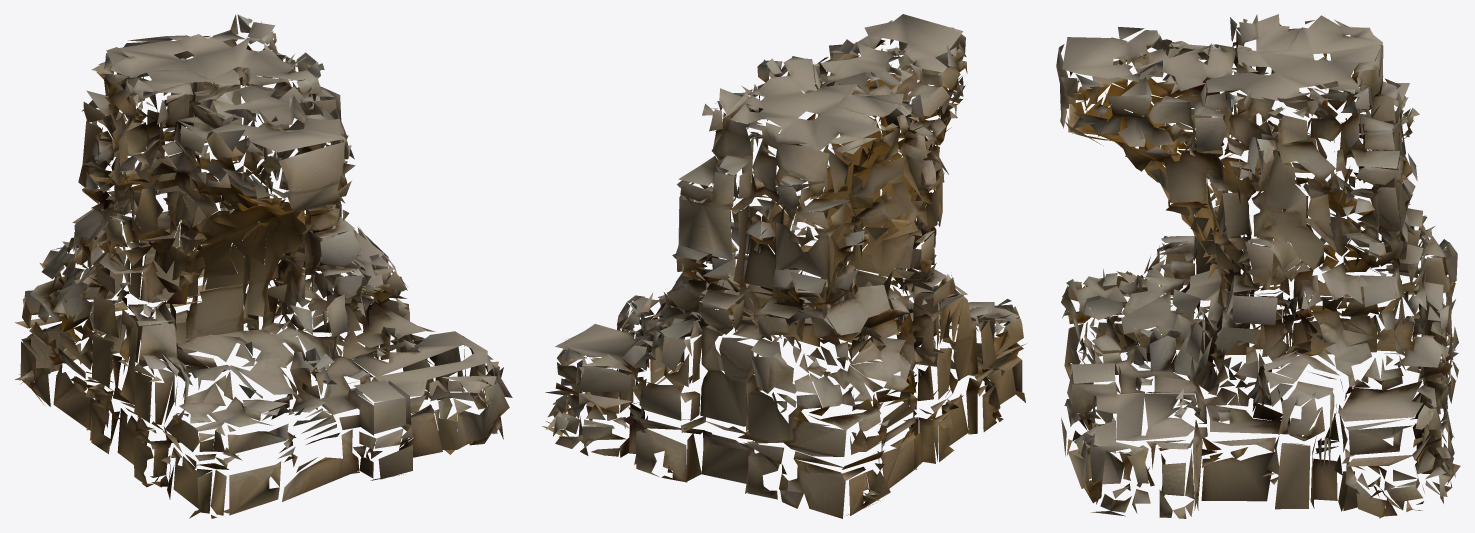
Rendered from cav_limestone_cliff_b_overhang_LOD2.glb.
The picture shows the model from 3 angles, left to right: view 1: azimuth 30°, elevation 25°; view 2: azimuth 150°, elevation 25°; view 3: azimuth 270°, elevation 25°; orthographic projection. The views are drawn at different scales.
Parts seen in each view (by area): view 1: tripo_node_d8d8335b-70f9-4c28-9559-faeaa14c2b27; view 2: tripo_node_d8d8335b-70f9-4c28-9559-faeaa14c2b27; view 3: tripo_node_d8d8335b-70f9-4c28-9559-faeaa14c2b27.
Boxes of the visible parts, <box> form: tripo_node_d8d8335b-70f9-4c28-9559-faeaa14c2b27: <box>15,14,512,518</box>; tripo_node_d8d8335b-70f9-4c28-9559-faeaa14c2b27: <box>542,14,1026,518</box>; tripo_node_d8d8335b-70f9-4c28-9559-faeaa14c2b27: <box>1056,14,1460,518</box>.
Bounding box in the file's own units: 1.02 × 1.01 × 1.
1 material, 1 textured.
